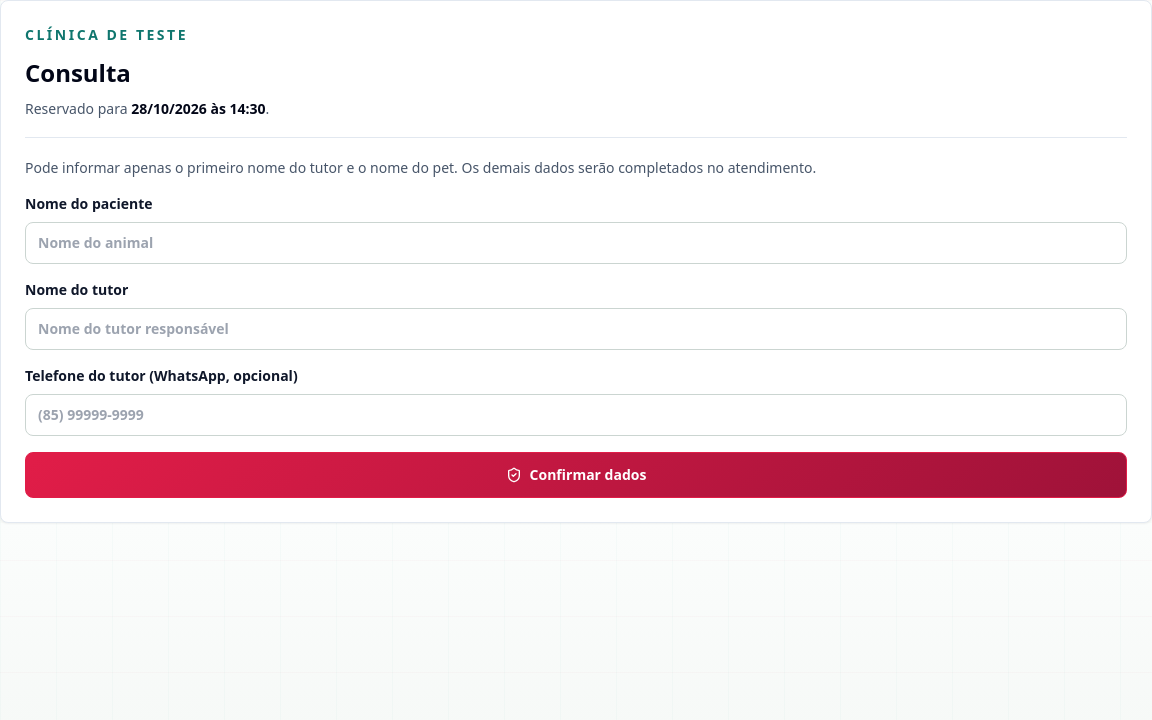
Scenario: AgendaFormalizacaoWorkspace › ignora dois envios enquanto a primeira requisicao ainda esta em andamento
Expected: the text "Clínica de teste" is shown, x1=25 y1=25 x2=188 y2=44
Type "Pingo" into the field with placeholder "Nome do animal" at (576, 243), box x1=25 y1=222 x2=1127 y2=264
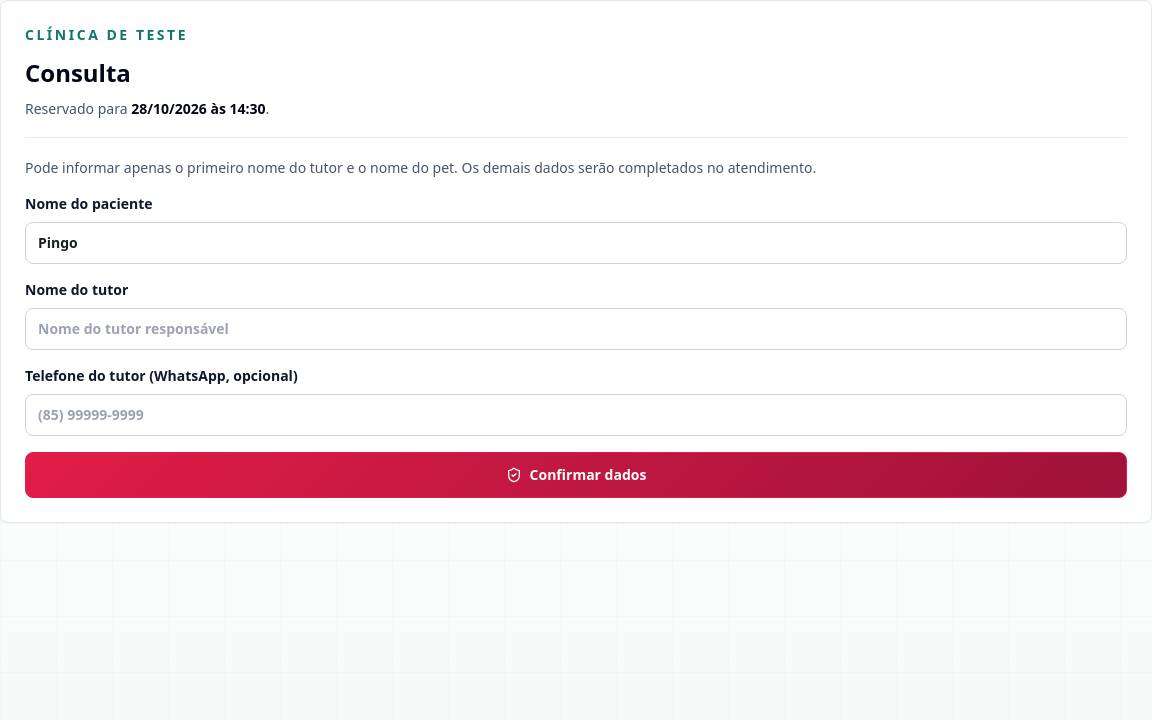
Type "Cristiane" into the field with placeholder "Nome do tutor responsável" at (576, 329), box x1=25 y1=308 x2=1127 y2=350
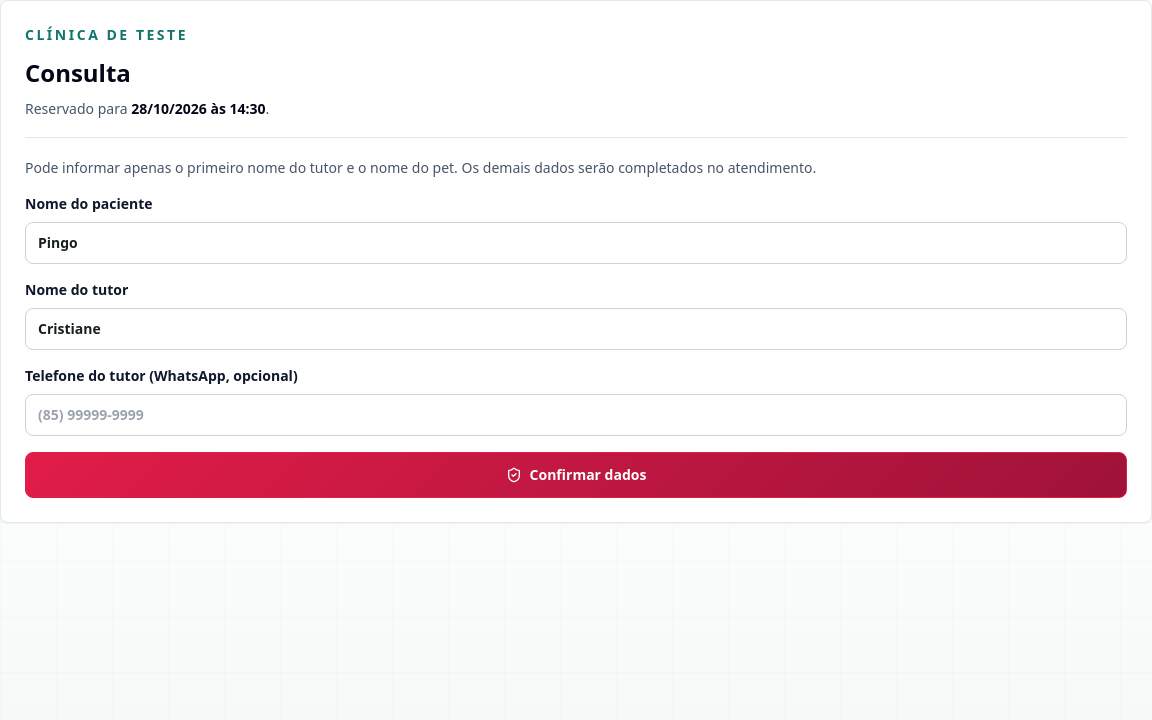
Submit the form named "confirmar dados", box x1=25 y1=158 x2=1127 y2=498
Submit the form named "confirmar dados", box x1=25 y1=158 x2=1127 y2=498
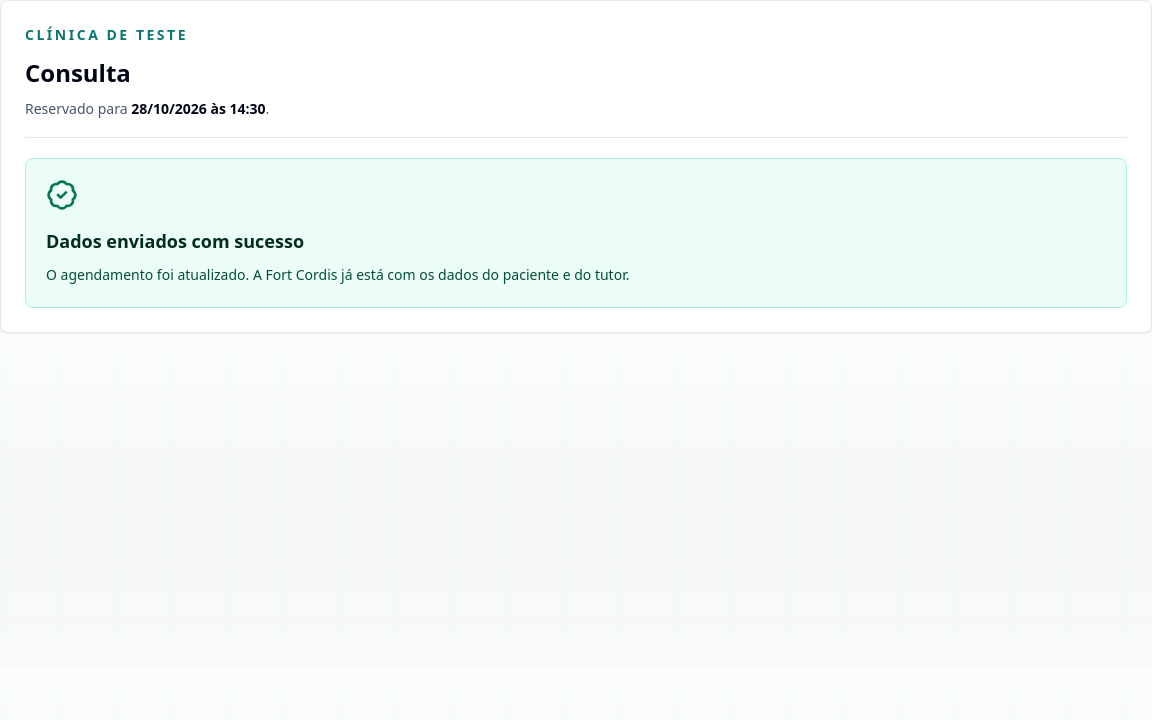
Now the heading "Dados enviados com sucesso" is shown, box x1=46 y1=229 x2=304 y2=253
